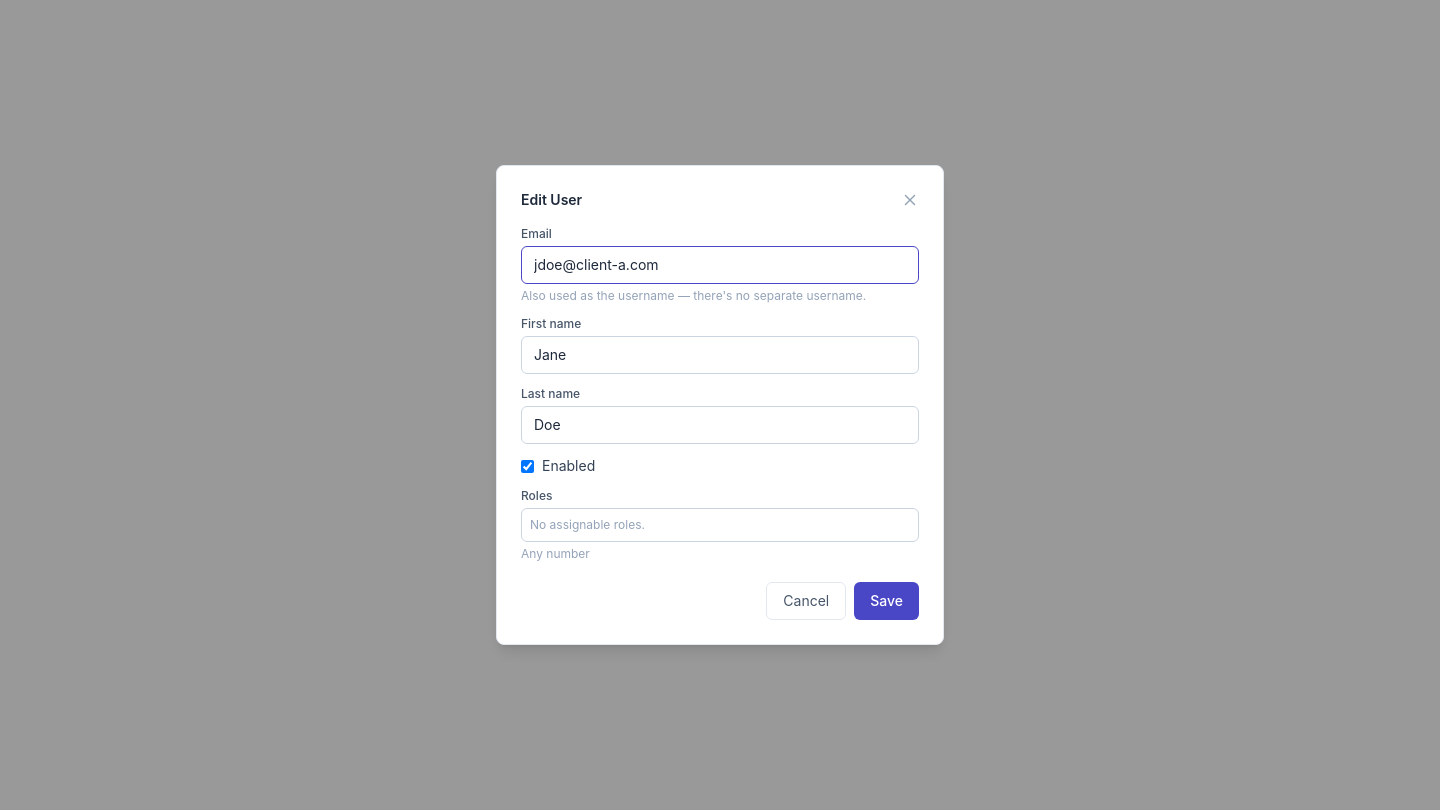
EditUserModal › shows err.body.detail on failure, or a fallback when absent
Expected: the field showing "jdoe@client-a.com" below "Email" is shown, [521,246,919,284]
Click the button "Save".
click(887, 601)  # box [854,582,919,620]
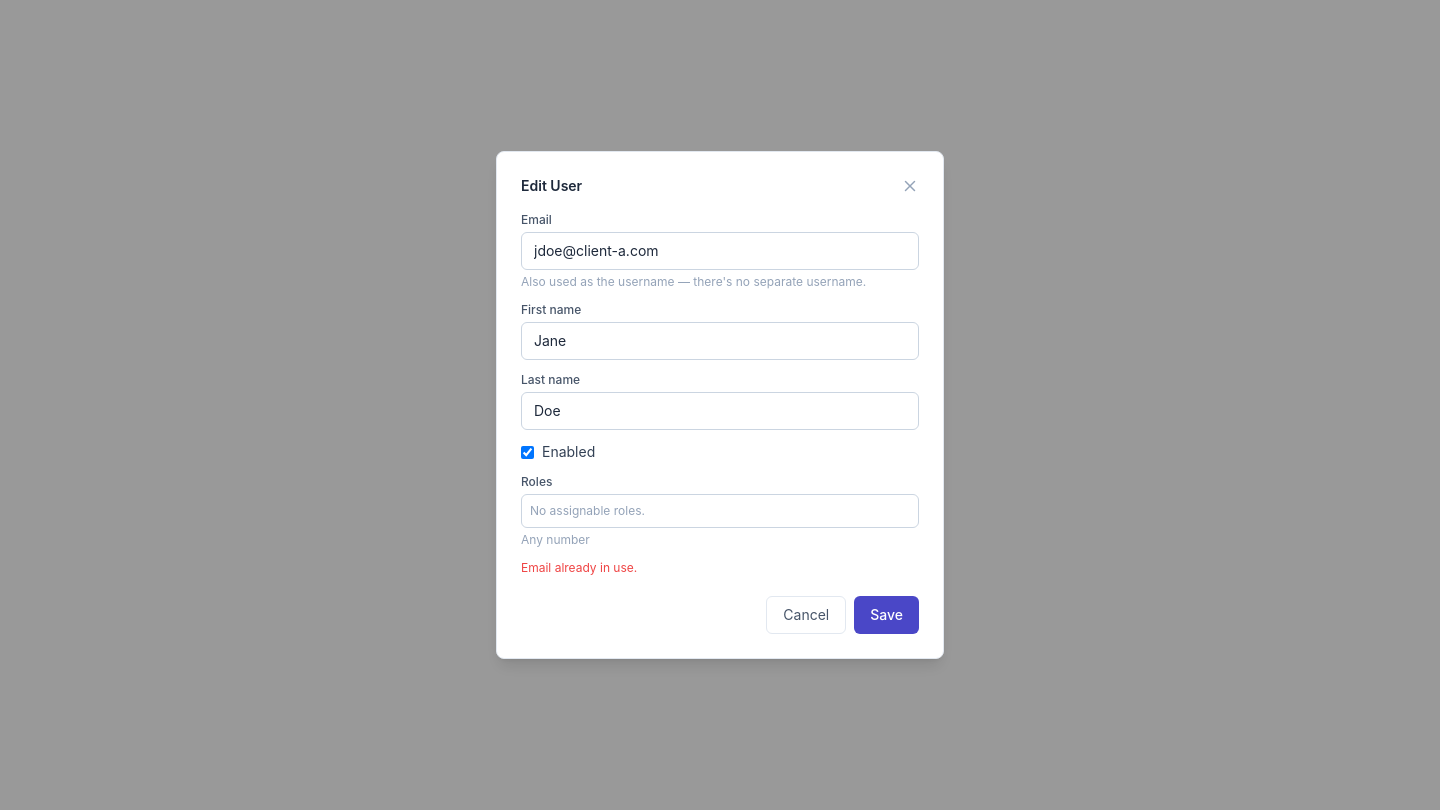
Expected: the text "Email already in use." is shown, [521,560,637,575]
